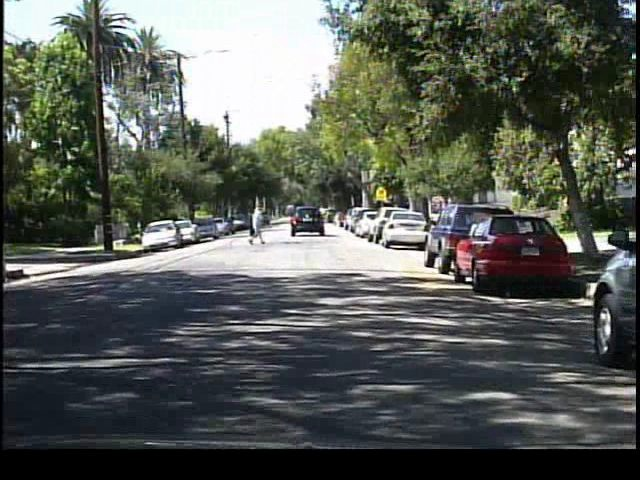person: (245, 205, 269, 246)
